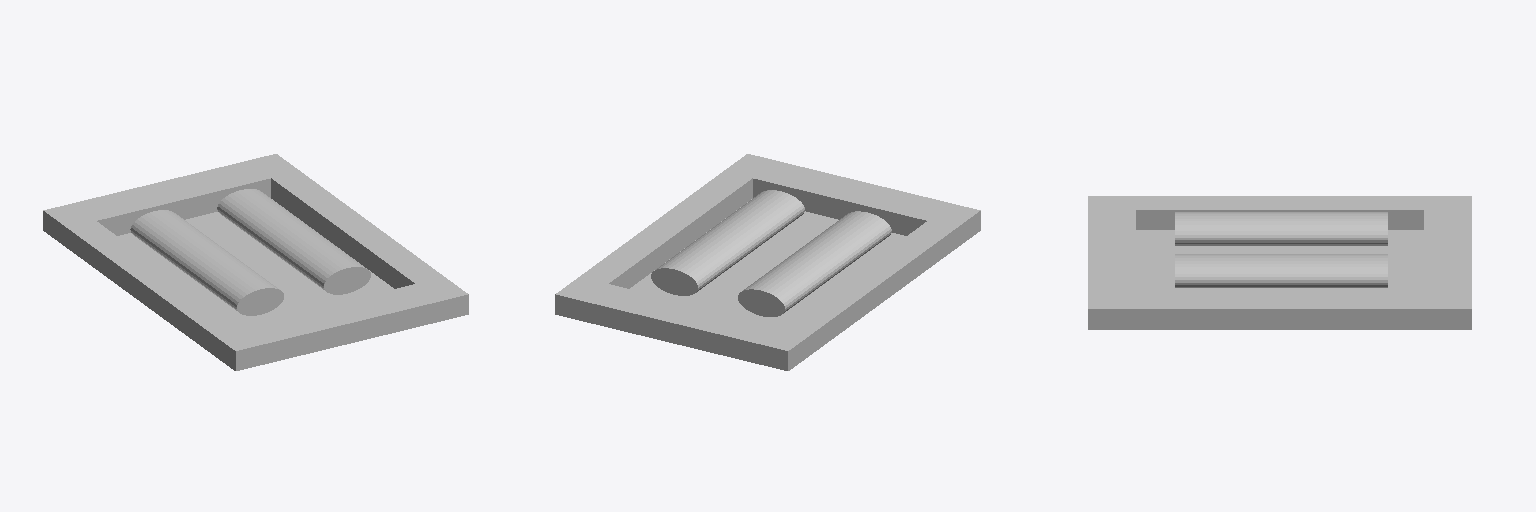
The model's file is rolls.obj.
The picture shows the model from 3 angles: view 1: azimuth 30°, elevation 25°; view 2: azimuth 150°, elevation 25°; view 3: azimuth 270°, elevation 25°; orthographic projection.
Visible parts, largest first — view 1: Cube, Cylinder, Cylinder.001; view 2: Cube, Cylinder, Cylinder.001; view 3: Cube, Cylinder, Cylinder.001.
Boxes of the visible parts, x1,y1,x2,y2 form: Cube: [43, 154, 468, 370]; Cylinder: [217, 189, 370, 294]; Cylinder.001: [130, 210, 283, 315]; Cube: [555, 154, 980, 370]; Cylinder: [651, 190, 804, 295]; Cylinder.001: [738, 211, 891, 316]; Cube: [1088, 196, 1471, 329]; Cylinder: [1175, 254, 1387, 287]; Cylinder.001: [1175, 212, 1387, 245].
Size of the model in its own units: 1.02 by 0.14 by 1.46.